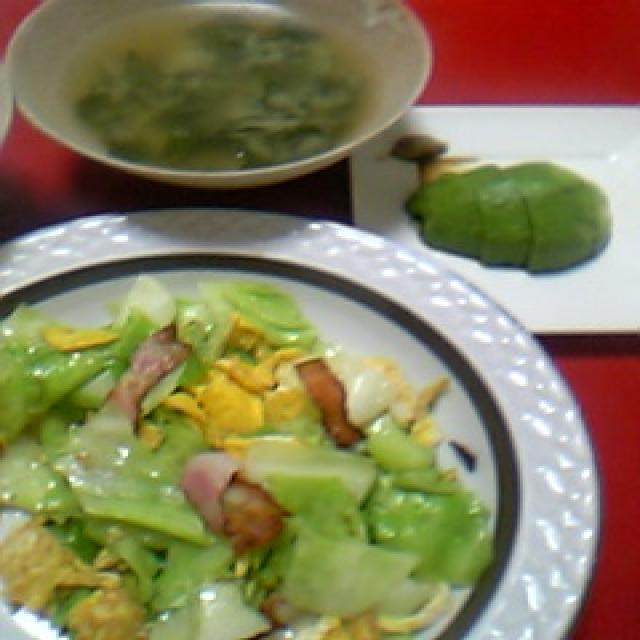蔬菜料理: (0, 276, 496, 640)
